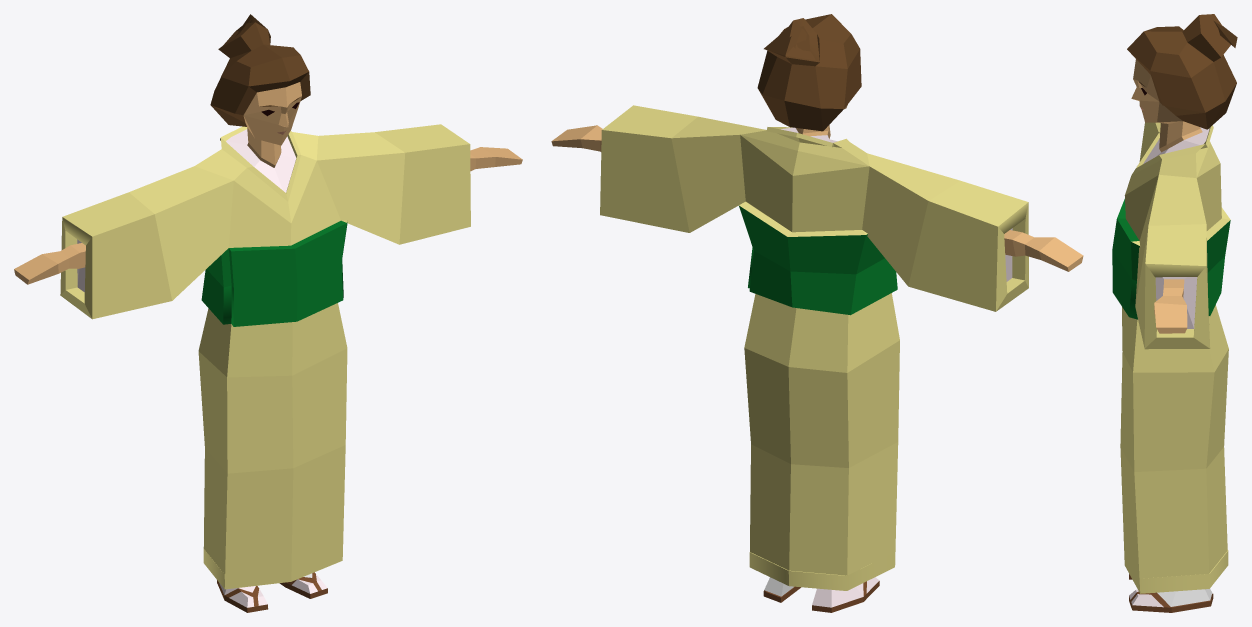
File: NPC (1).fbx
3 renders of one model, left to right at view 1: azimuth 30°, elevation 25°; view 2: azimuth 150°, elevation 25°; view 3: azimuth 270°, elevation 25°, orthographic. The views are drawn at different scales.
Visible parts, largest first — view 1: NPC, Cinta, Pelo, Cara, ManoIZ, Cuello, ManoDe, Pelo2; view 2: NPC, Cinta, Pelo, ManoIZ, ManoDe, Pelo3; view 3: NPC, Pelo, Cinta, Cara, ManoDe, MangaDe, NPC.003, Cuello, Pelo3.
Boxes of the visible parts, left/top/right/bottom form: NPC: left=60, top=124, right=470, bottom=612; Cinta: left=201, top=220, right=347, bottom=326; Pelo: left=210, top=14, right=310, bottom=126; Cara: left=243, top=82, right=301, bottom=167; ManoIZ: left=14, top=243, right=85, bottom=284; Cuello: left=226, top=129, right=296, bottom=192; ManoDe: left=470, top=147, right=522, bottom=171; Pelo2: left=248, top=58, right=289, bottom=86; NPC: left=600, top=105, right=1028, bottom=612; Cinta: left=739, top=205, right=897, bottom=315; Pelo: left=757, top=14, right=861, bottom=131; ManoIZ: left=1004, top=230, right=1083, bottom=271; ManoDe: left=551, top=125, right=602, bottom=151; Pelo3: left=764, top=22, right=815, bottom=60; NPC: left=1120, top=122, right=1230, bottom=612; Pelo: left=1127, top=14, right=1236, bottom=129; Cinta: left=1112, top=199, right=1230, bottom=319; Cara: left=1131, top=59, right=1202, bottom=152; ManoDe: left=1154, top=279, right=1187, bottom=327; MangaDe: left=1155, top=277, right=1197, bottom=328; NPC.003: left=1157, top=589, right=1212, bottom=606; Cuello: left=1143, top=127, right=1209, bottom=163; Pelo3: left=1213, top=20, right=1237, bottom=47.
Size of the model in its own units: 154 by 167 by 32.67.
